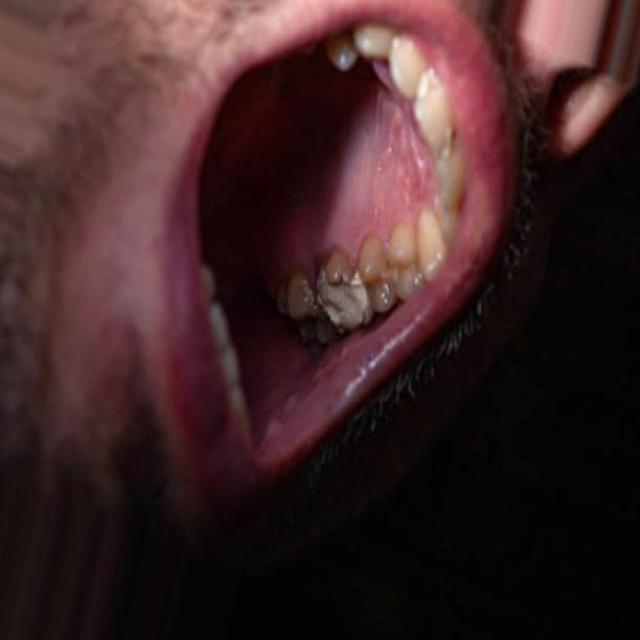caries: (315, 275, 370, 332)
